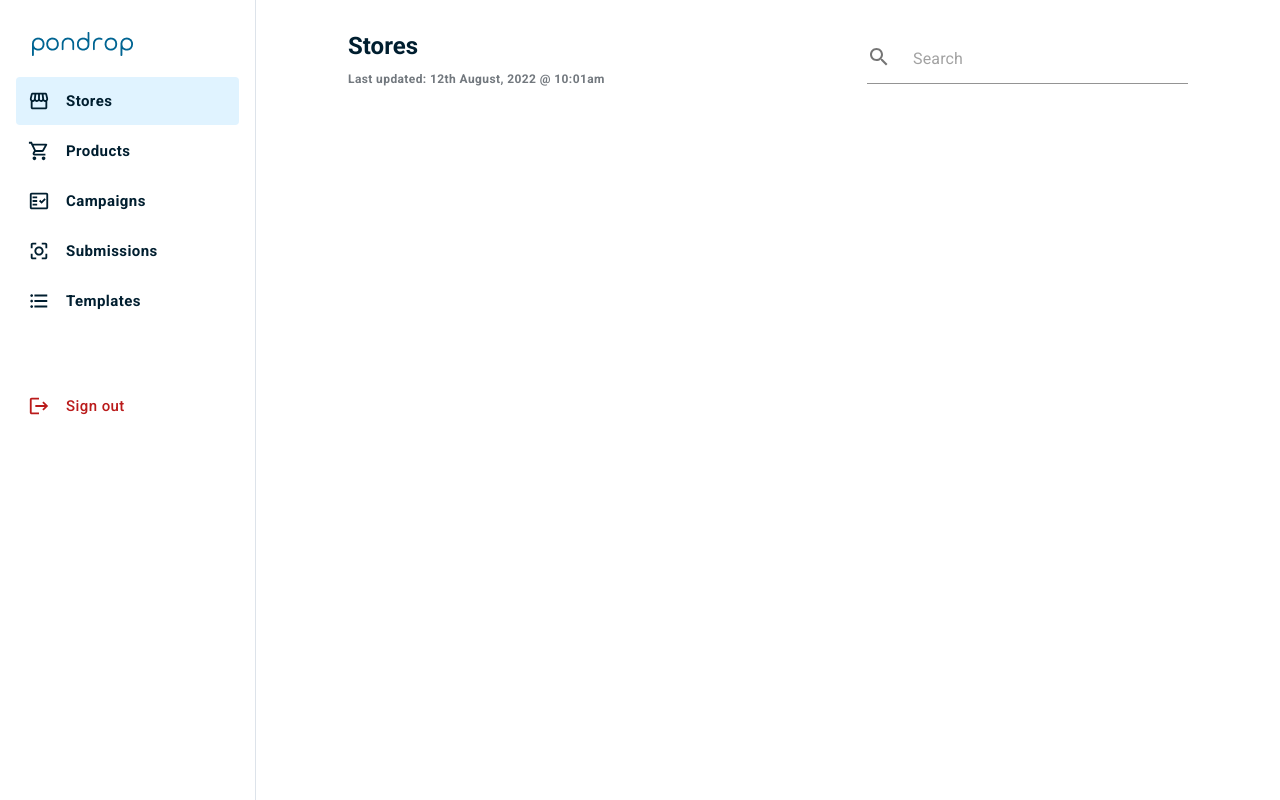
it: <App /> › should show Products page
Click the button with test id "panel-product-btn" at (128, 151), box [16,127,239,175]
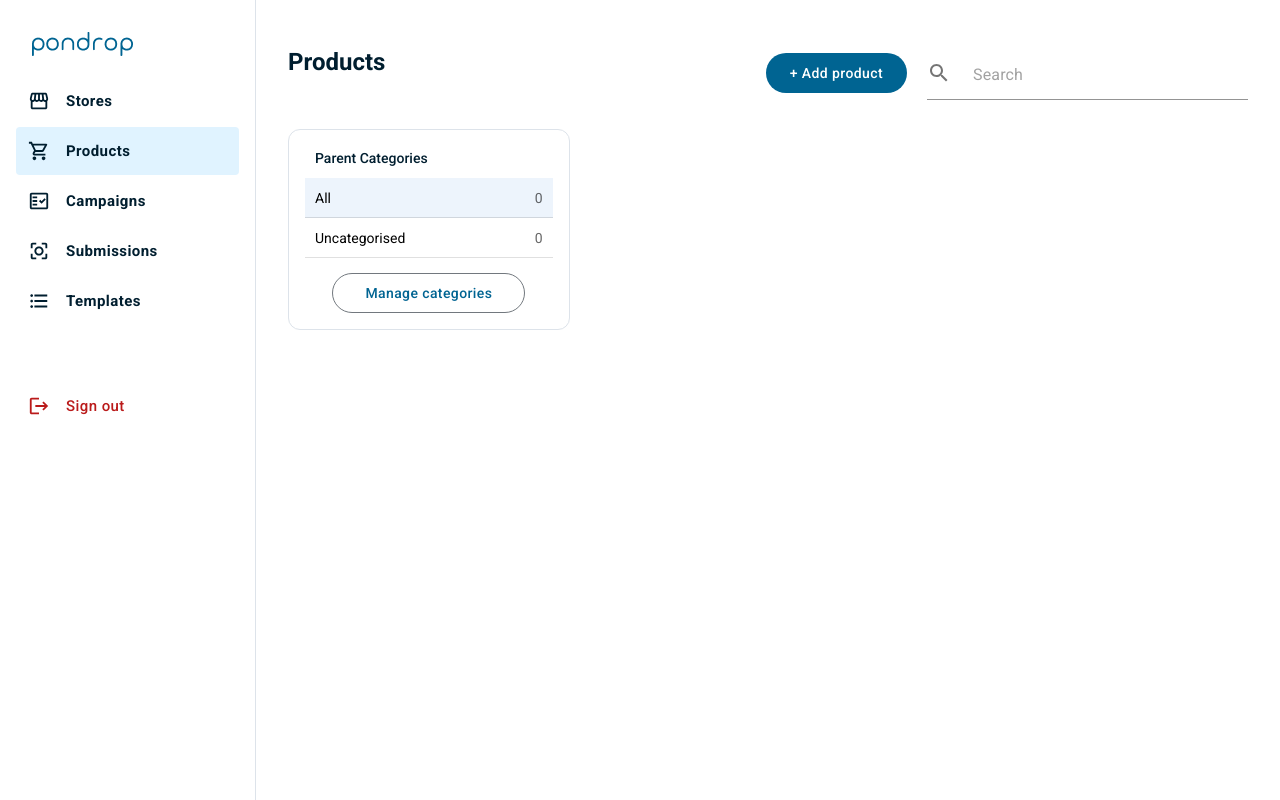
Now the heading "Products" is shown, box [288,46,385,78]
